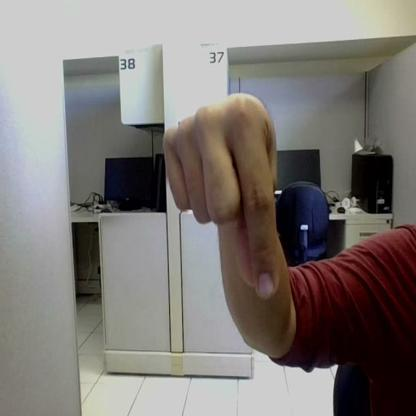Q: (165, 94, 280, 296)
